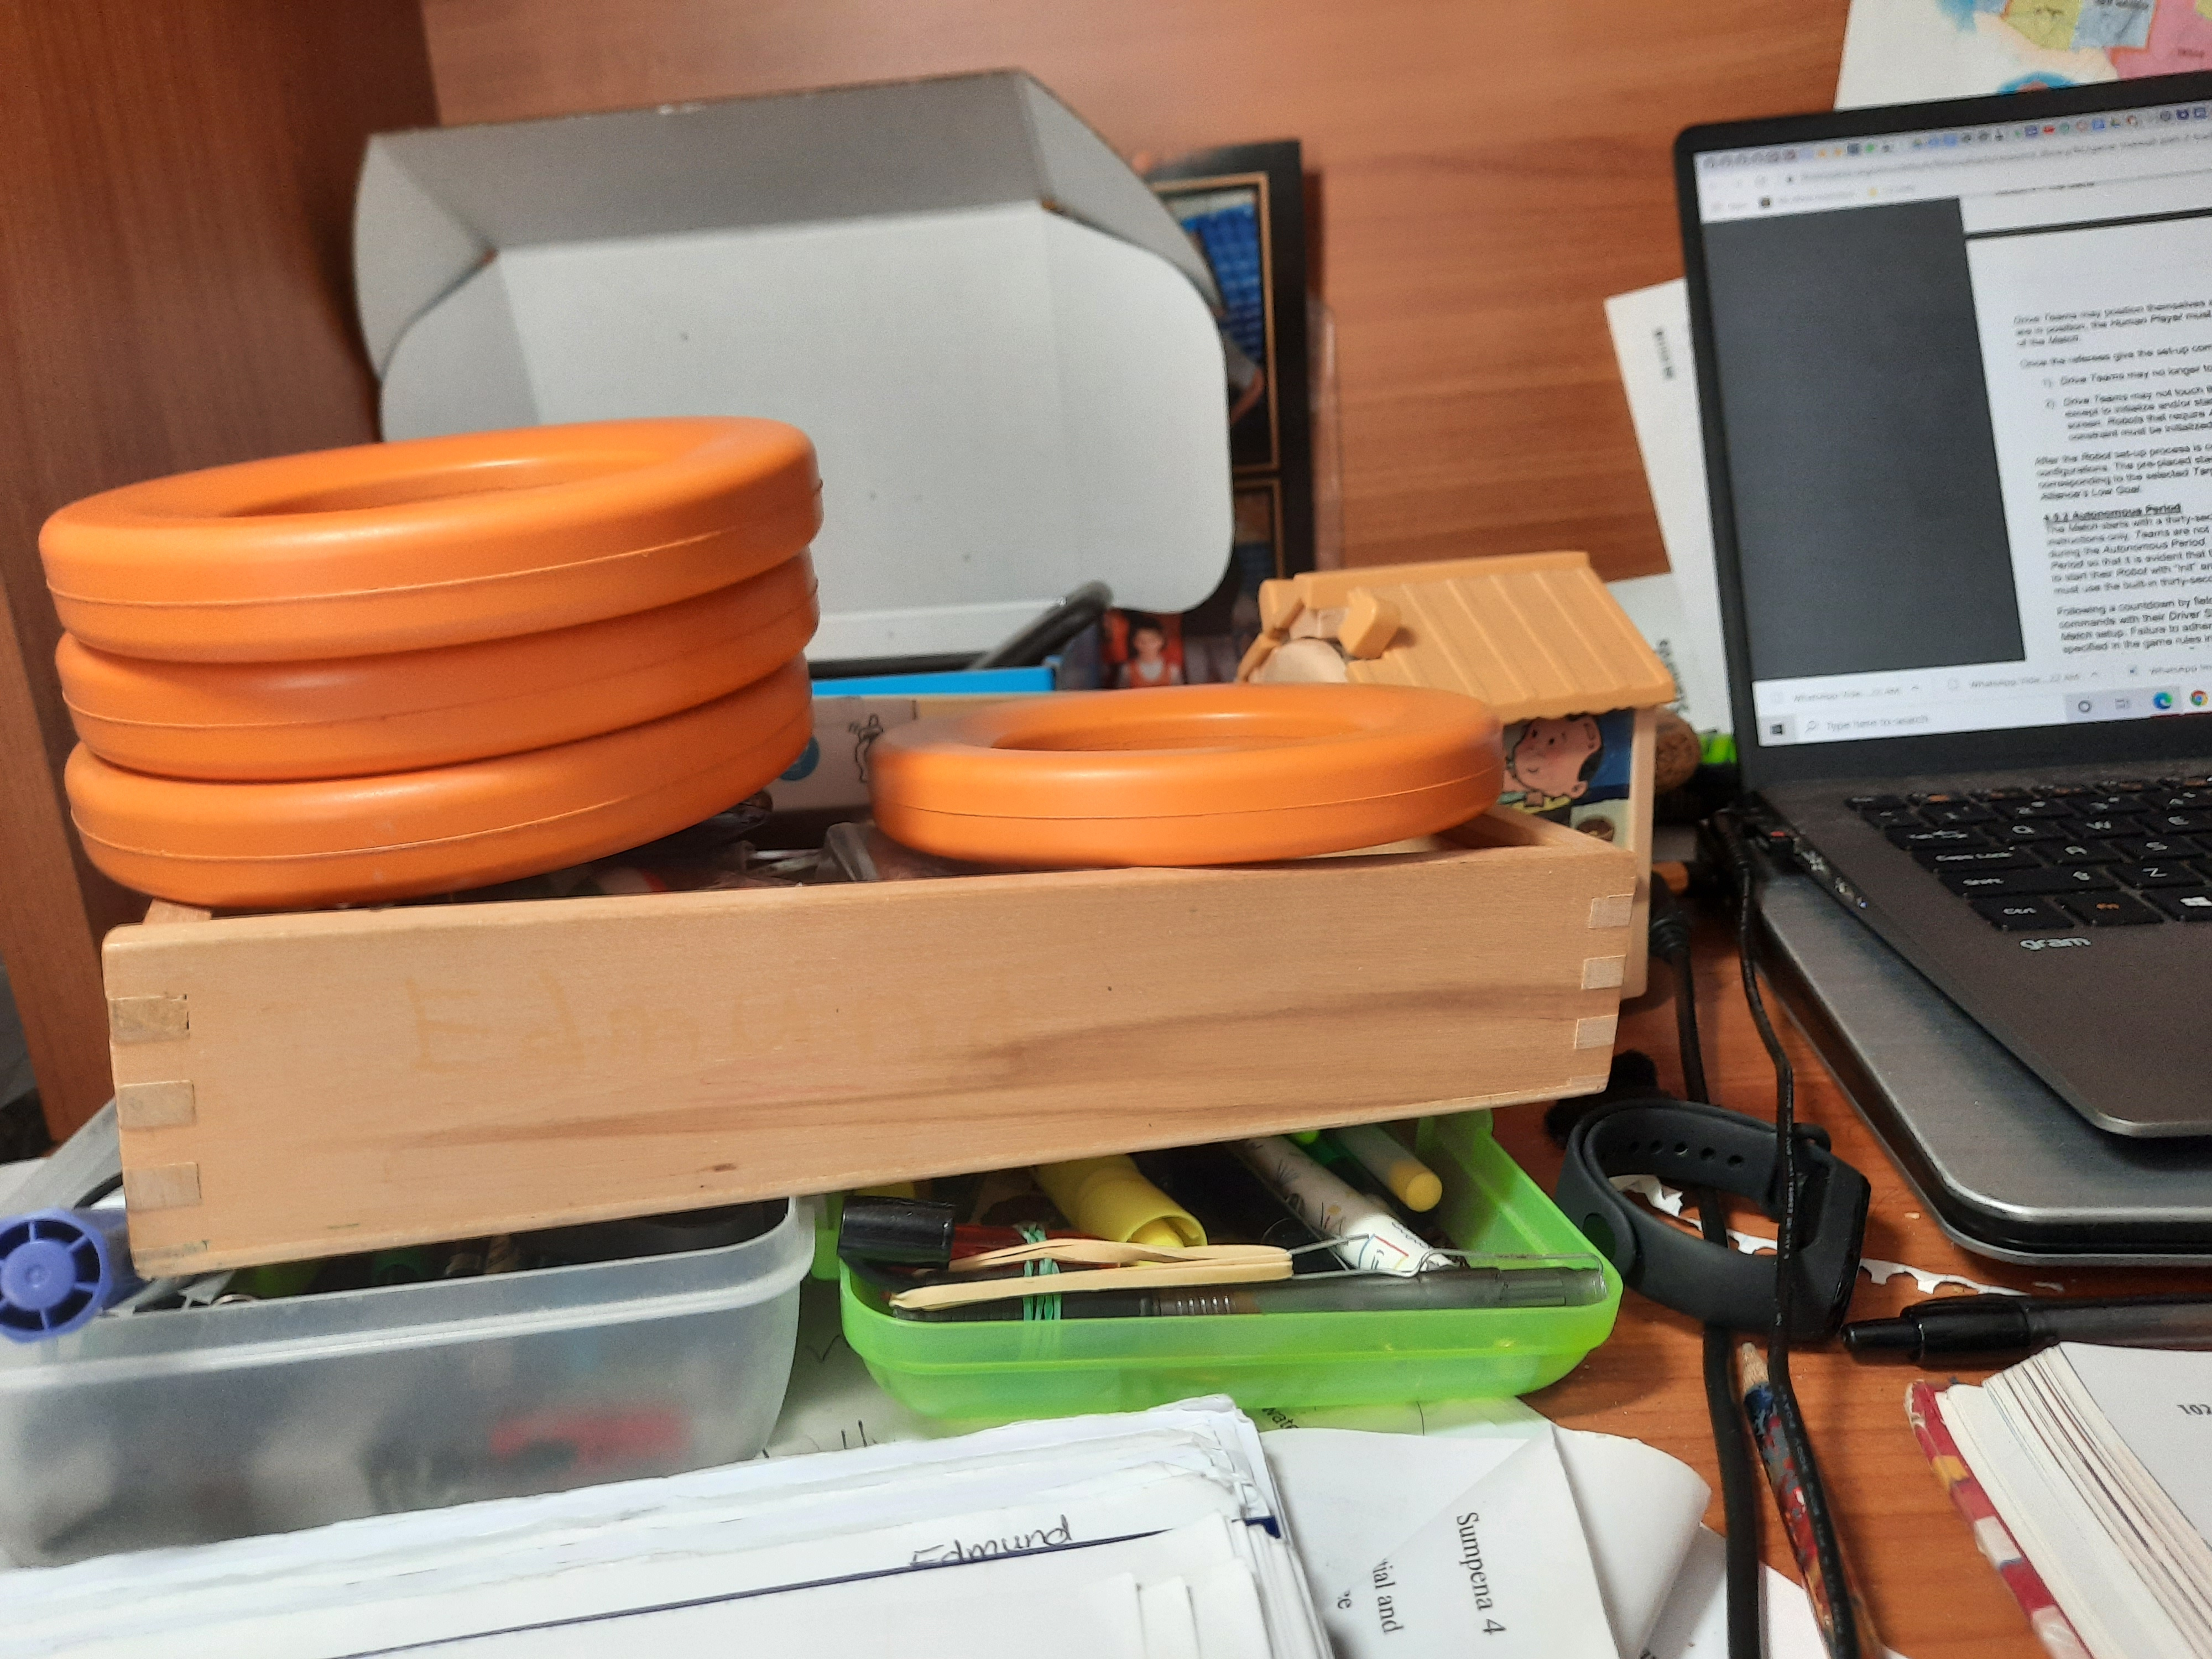FourStack: (42, 448, 831, 863)
OneStack: (880, 694, 1510, 856)
